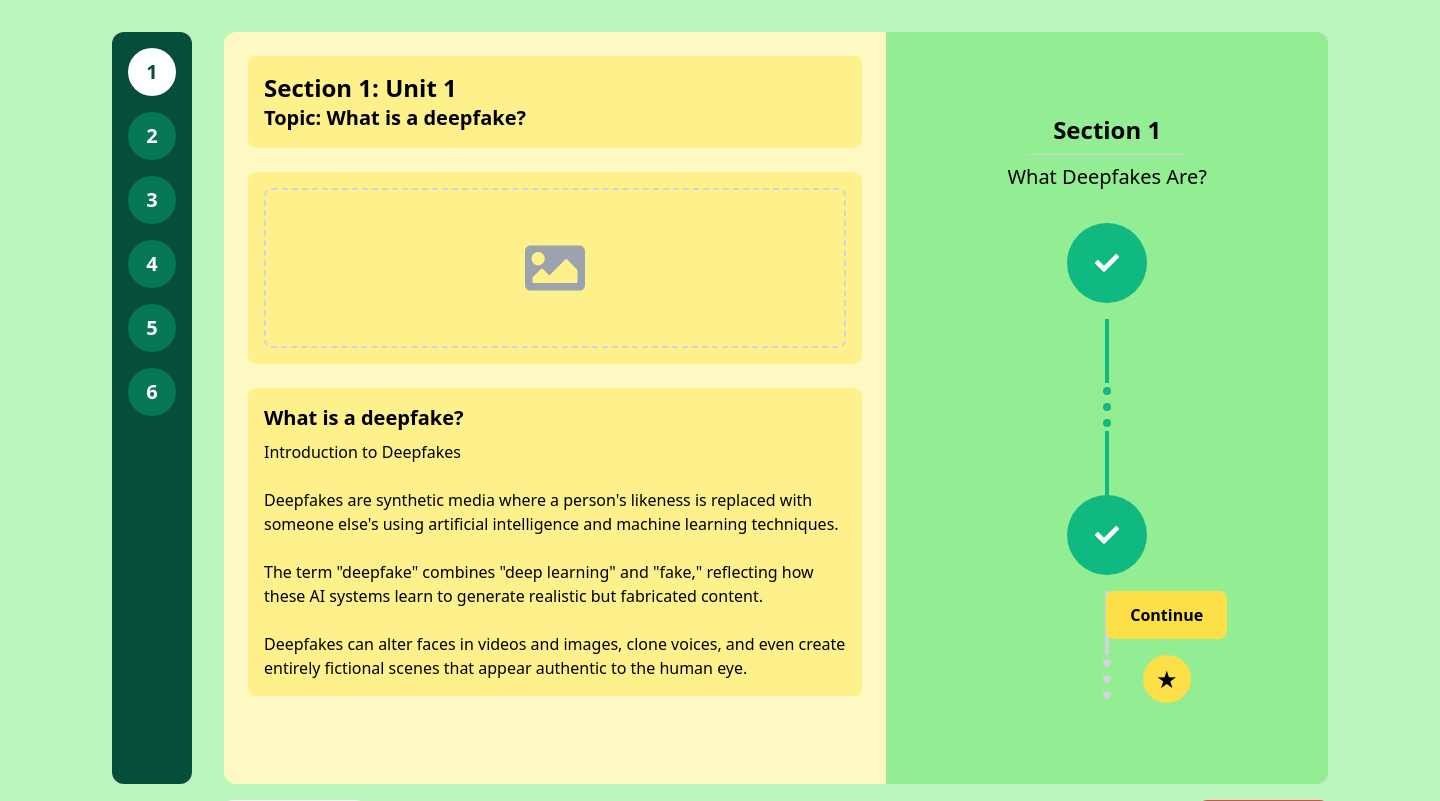
it: Guide Component › navigates to next unit when next button is clicked
This screenshot has width=1440, height=801.
Expected: the heading "What is a deepfake?" is shown, [264,404,464,431]
Find and click the Continue button to navigate
Click the button "Continue" at (1167, 614), box [1106,590,1227,638]
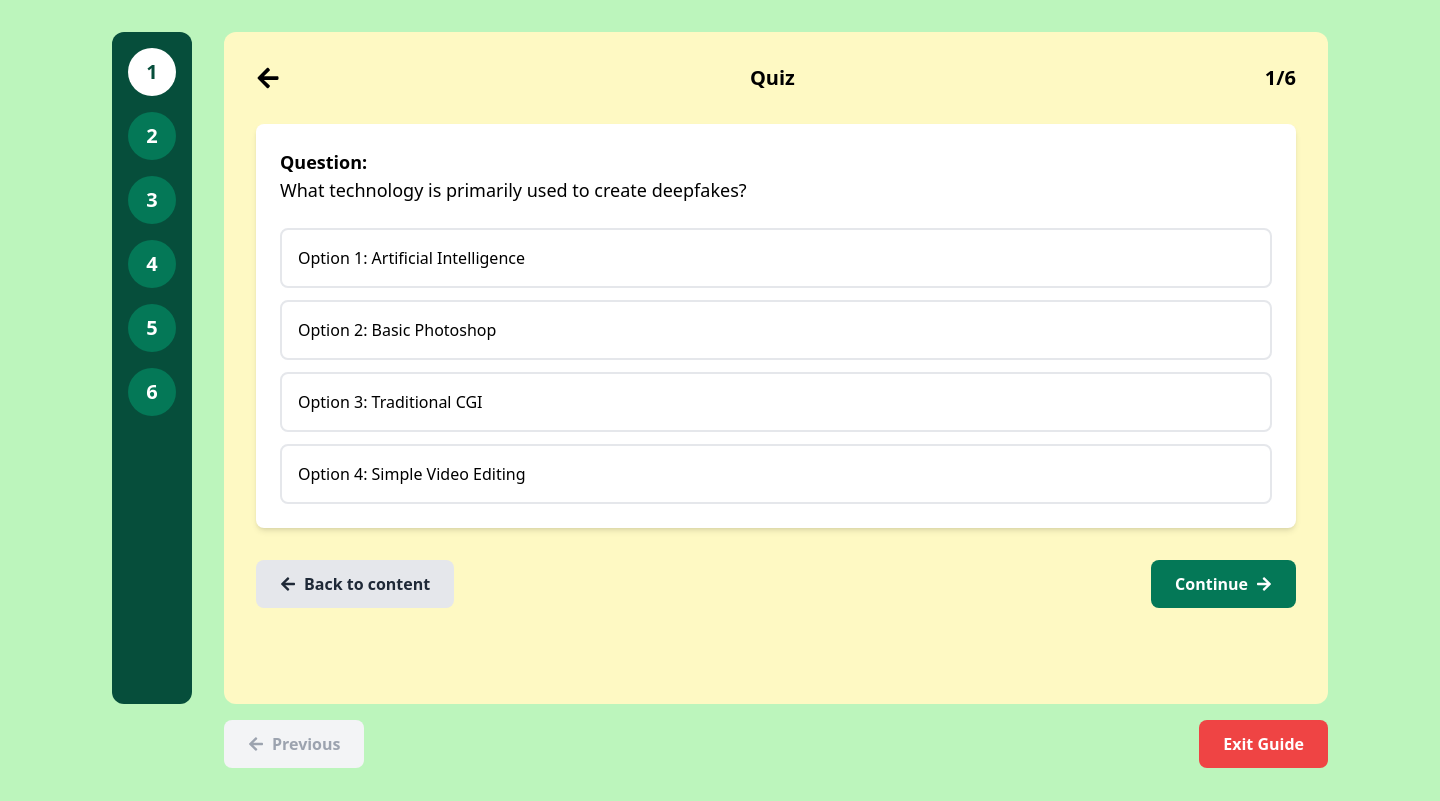
Expected: the heading "Quiz" is shown, [750,64,795,92]
